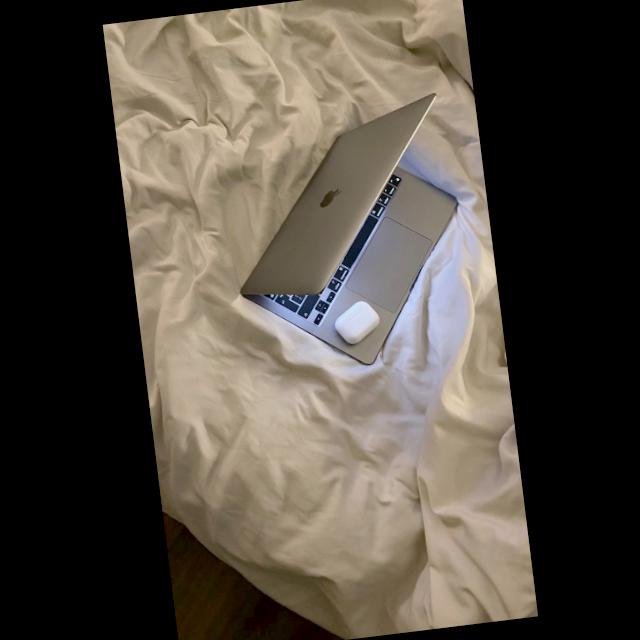laptop: (241, 94, 456, 363)
